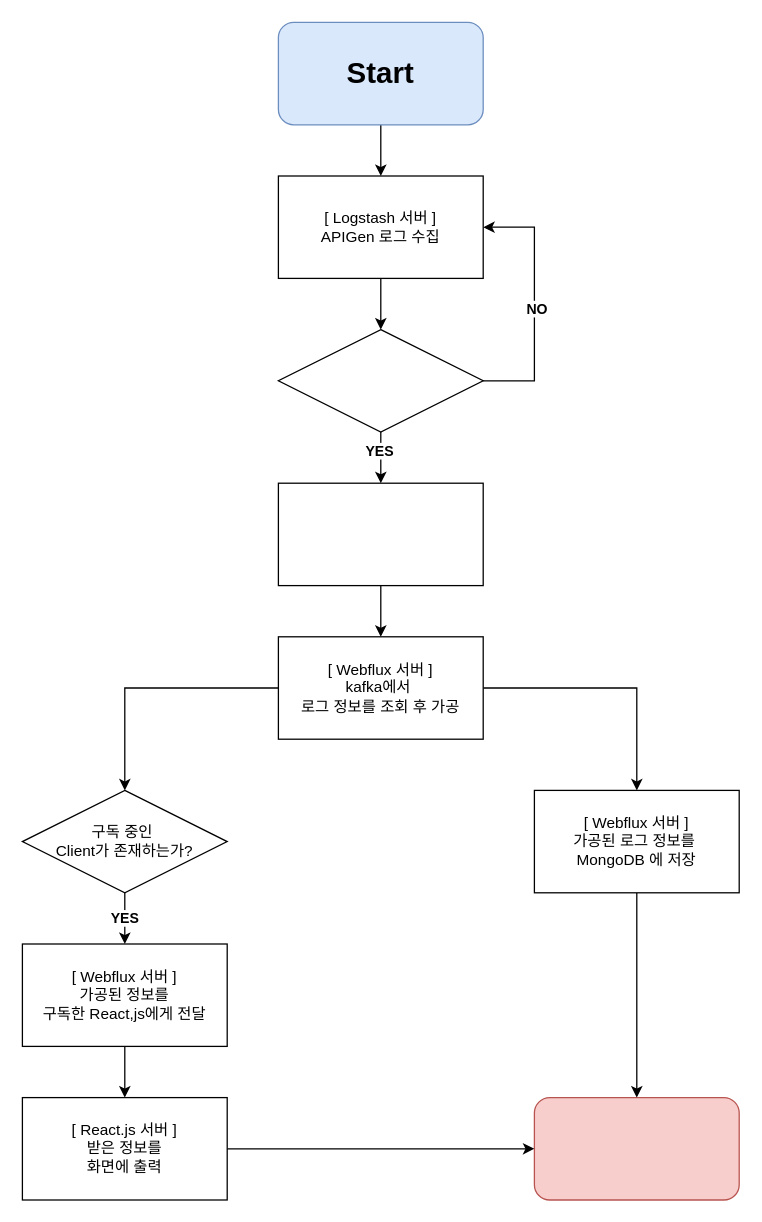
The diagram is 762 pixels wide and 1222 high, and some of its shapes have lost their labels. Each missing label, with the centre of its shape:
[ Logstash 서버 ] 로그 정보를 Kafka 서버에 전송: the point at 380,534
End: the point at 636,1148
패턴에 일치하는 새로운 로그가 있는가?: the point at 380,380
